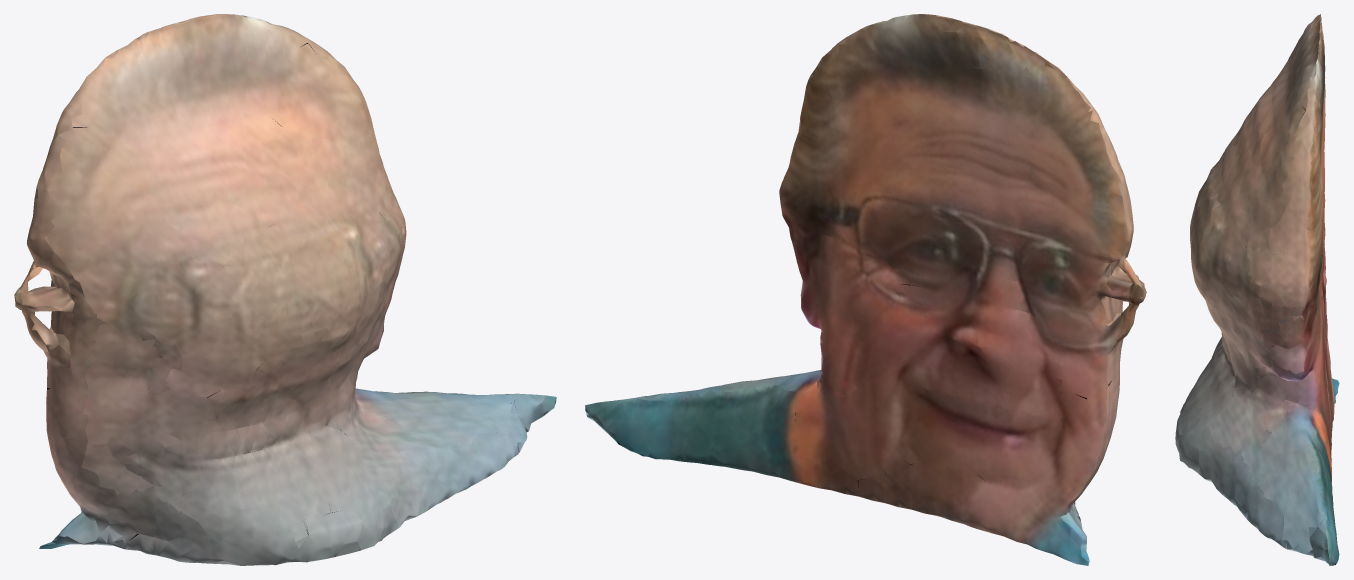
3 views of the same model, side by side, from view 1: azimuth 30°, elevation 25°; view 2: azimuth 150°, elevation 25°; view 3: azimuth 270°, elevation 25° (orthographic). The views are drawn at different scales.
Parts seen in each view (by area): view 1: world; view 2: world; view 3: world.
Boxes of the visible parts, bbox=[...] form: world: bbox=[14, 14, 556, 565]; world: bbox=[585, 14, 1146, 565]; world: bbox=[1175, 14, 1339, 565].
Bounding box in the file's own units: 0.9052 × 0.7951 × 0.2907.
1 material, 1 textured.
